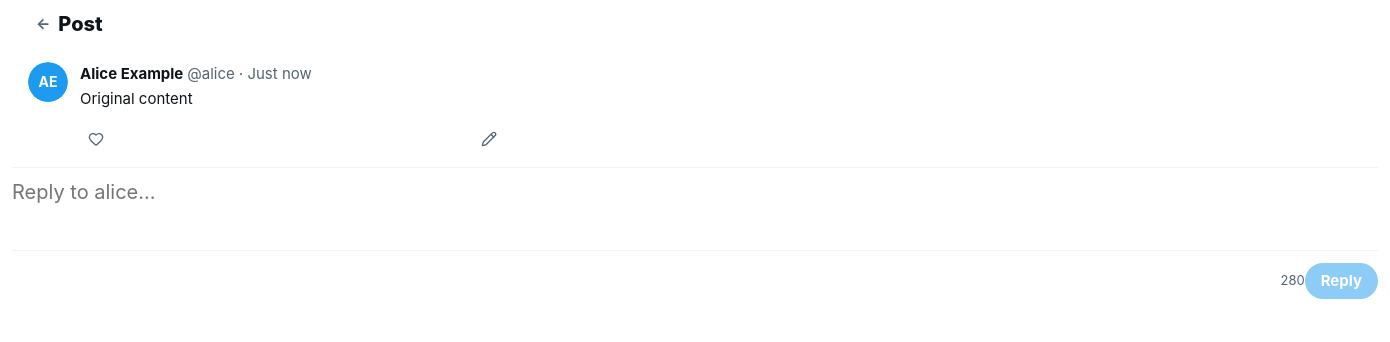
Test: DirectPostPage › saves edited post successfully
This screenshot has width=1390, height=342.
Click the button with test id "post-edit-button-123".
click(489, 138)  # box [473,122,505,154]
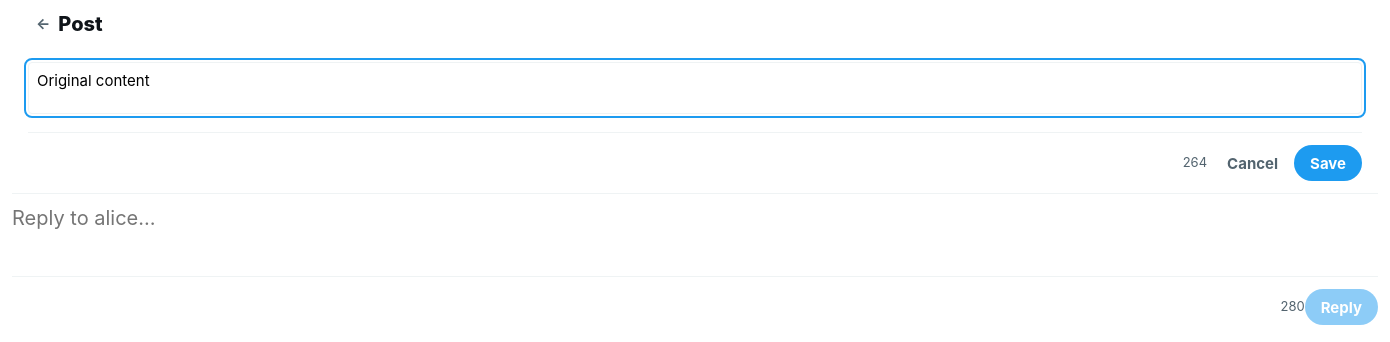
Replace the text in the text box with test id "post-editor-body-input-123" with "Updated content" at (695, 88), box [28,62,1362,114]
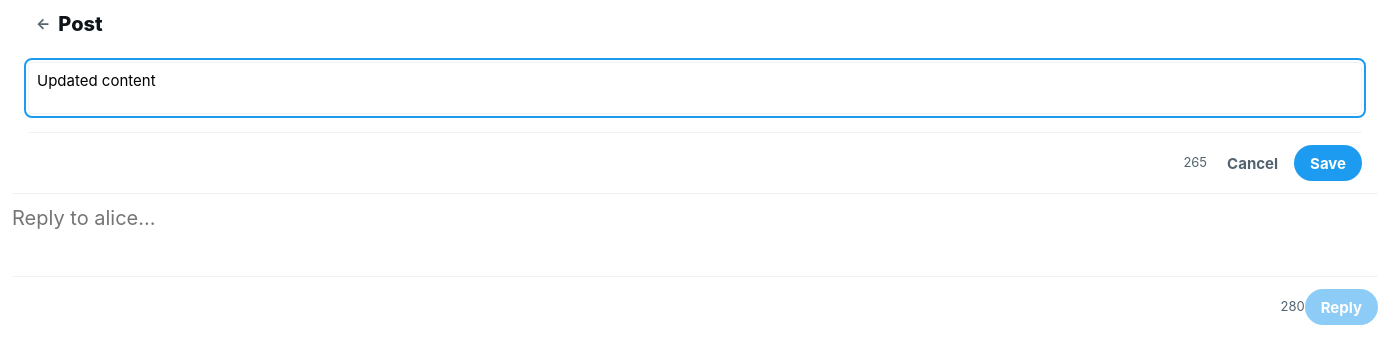
Click the button "Save".
click(1328, 163)  # box [1294,145,1362,181]
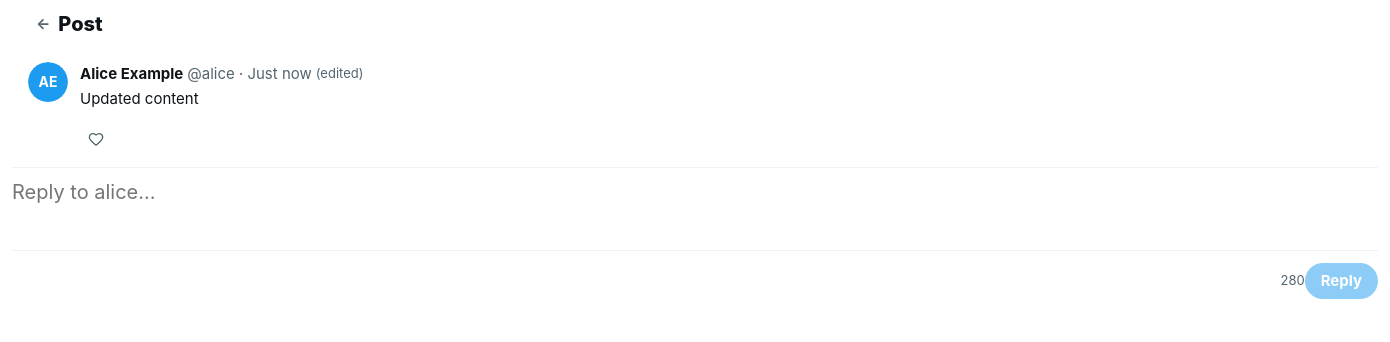
Now the text "Updated content" is shown, box [80,89,199,108]
